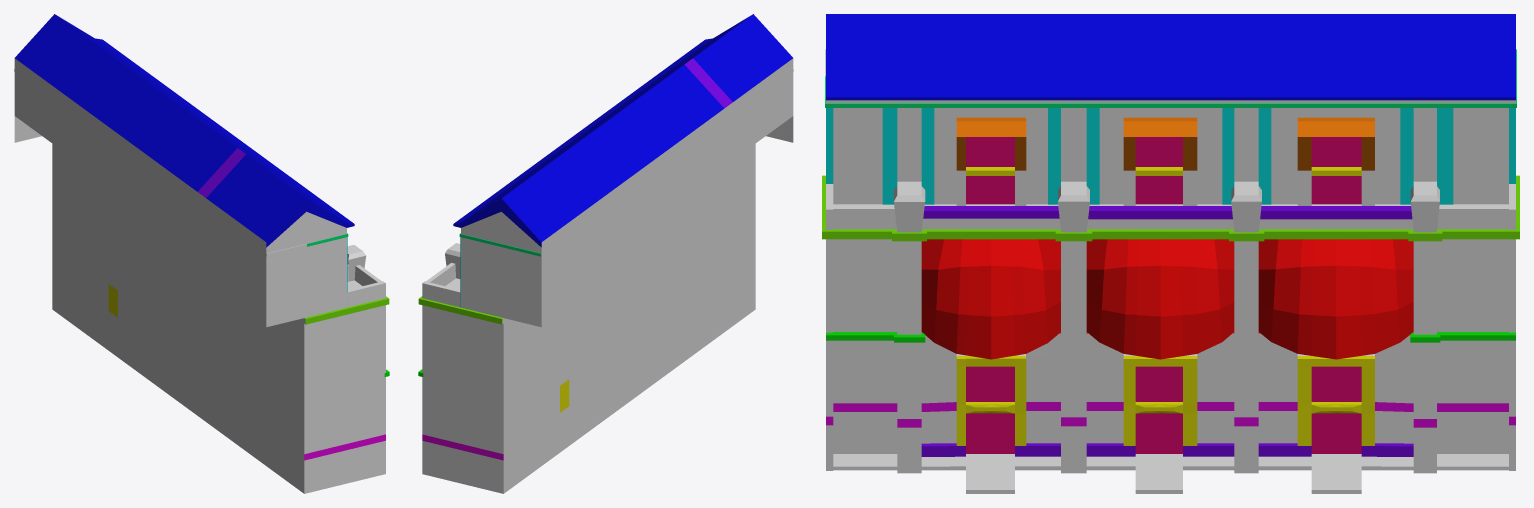
File: shop01.fbx
3 views of the same model, side by side, from view 1: azimuth 30°, elevation 25°; view 2: azimuth 150°, elevation 25°; view 3: azimuth 270°, elevation 25° (orthographic). The views are drawn at different scales.
Parts seen in each view (by area): view 1: Cube; view 2: Cube; view 3: Cube.
Boxes of the visible parts, x1,y1,x2,y2 form: Cube: (14, 14, 389, 493); Cube: (418, 14, 793, 493); Cube: (822, 14, 1519, 493).
Size of the model in its own units: 2097 by 3846 by 6020.
